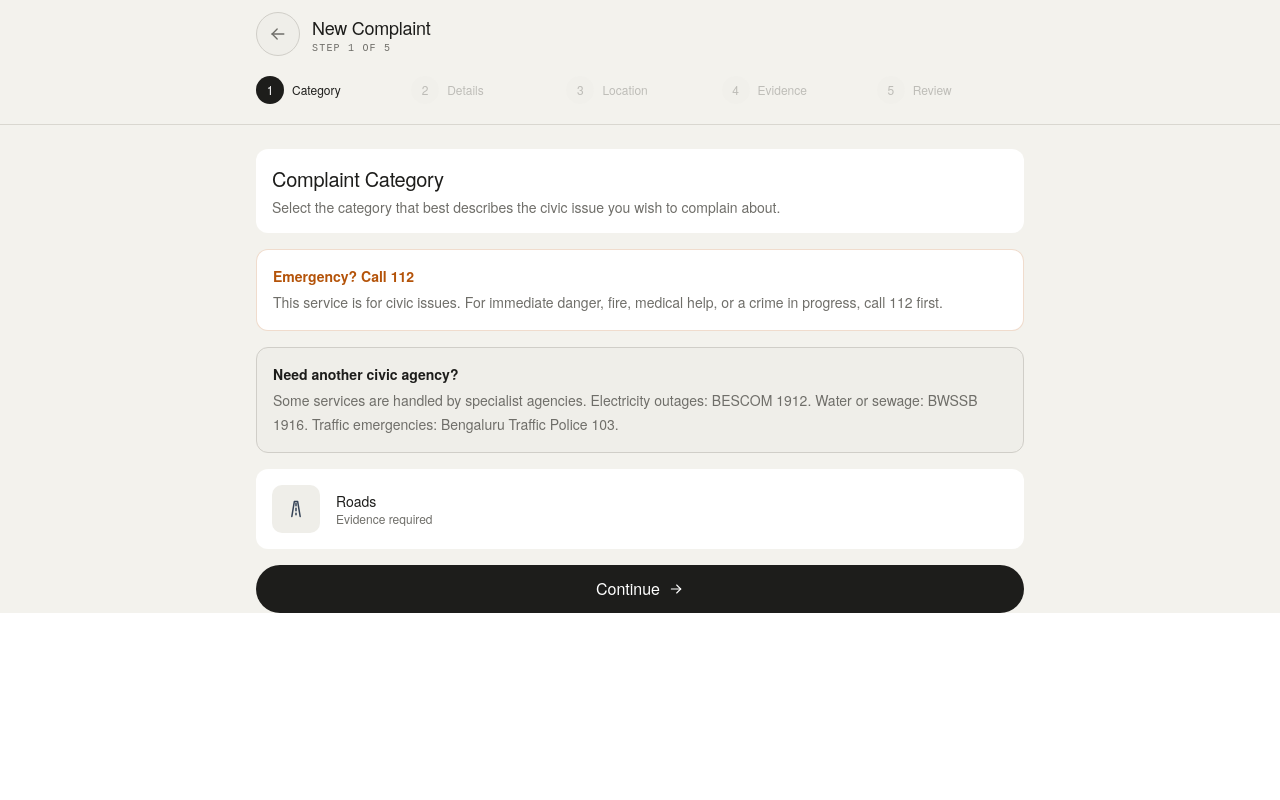
Test: SubmitPage › validates title and description length
Go to details
Click the radio button "Roads" at (352, 509), box [272,485,432,533]
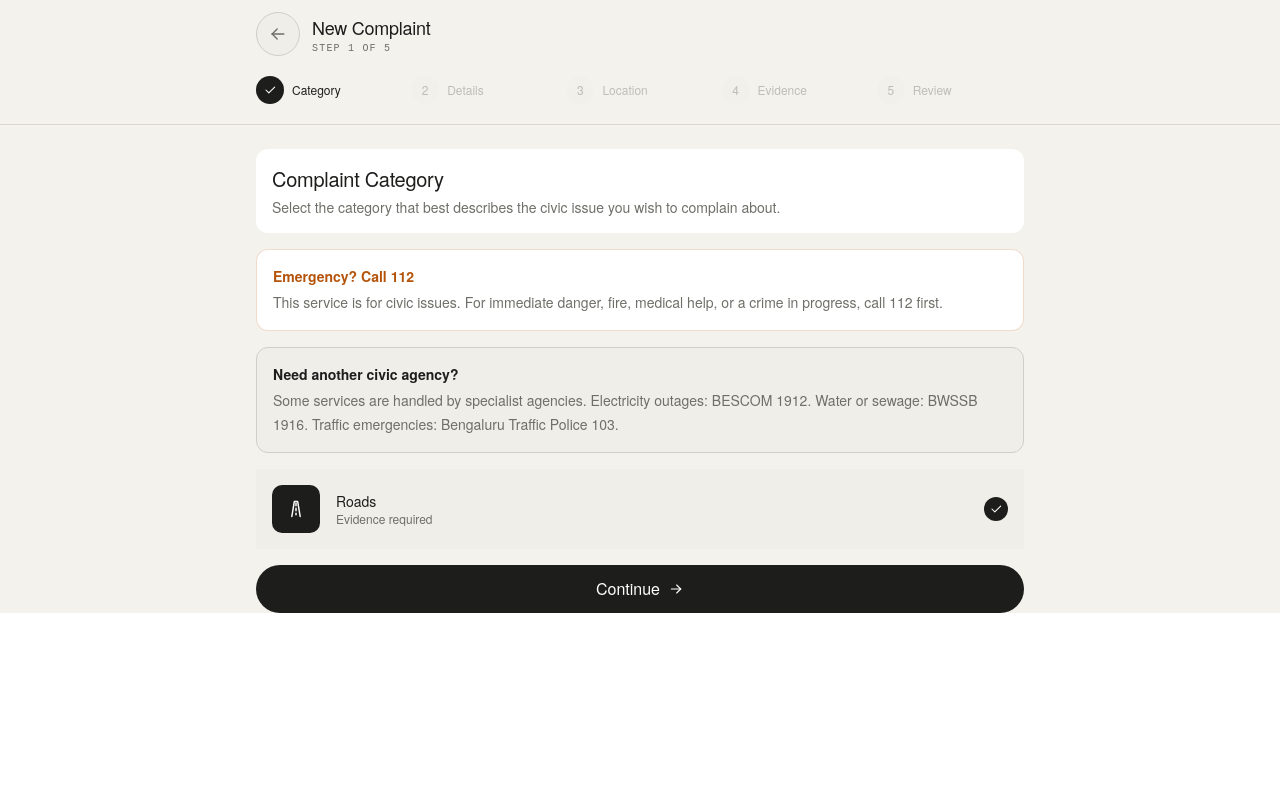
Click the button "Continue" at (640, 589), box [256,565,1024,613]
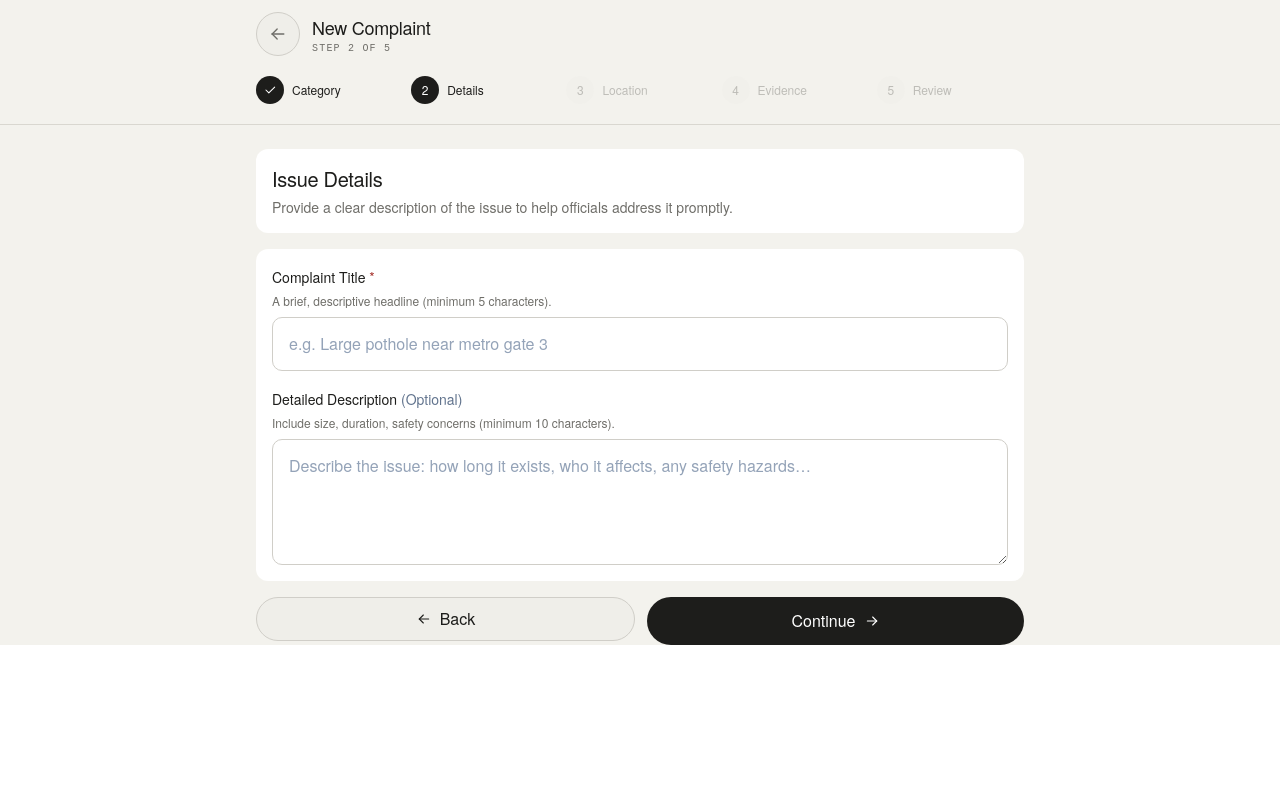
Now the heading "Issue Details" is shown, box [272,164,382,193]
Try to continue with short input
Type "Hi" into the field with placeholder "e.g. Large pothole near metro gate 3" at (640, 344), box [272,317,1008,371]
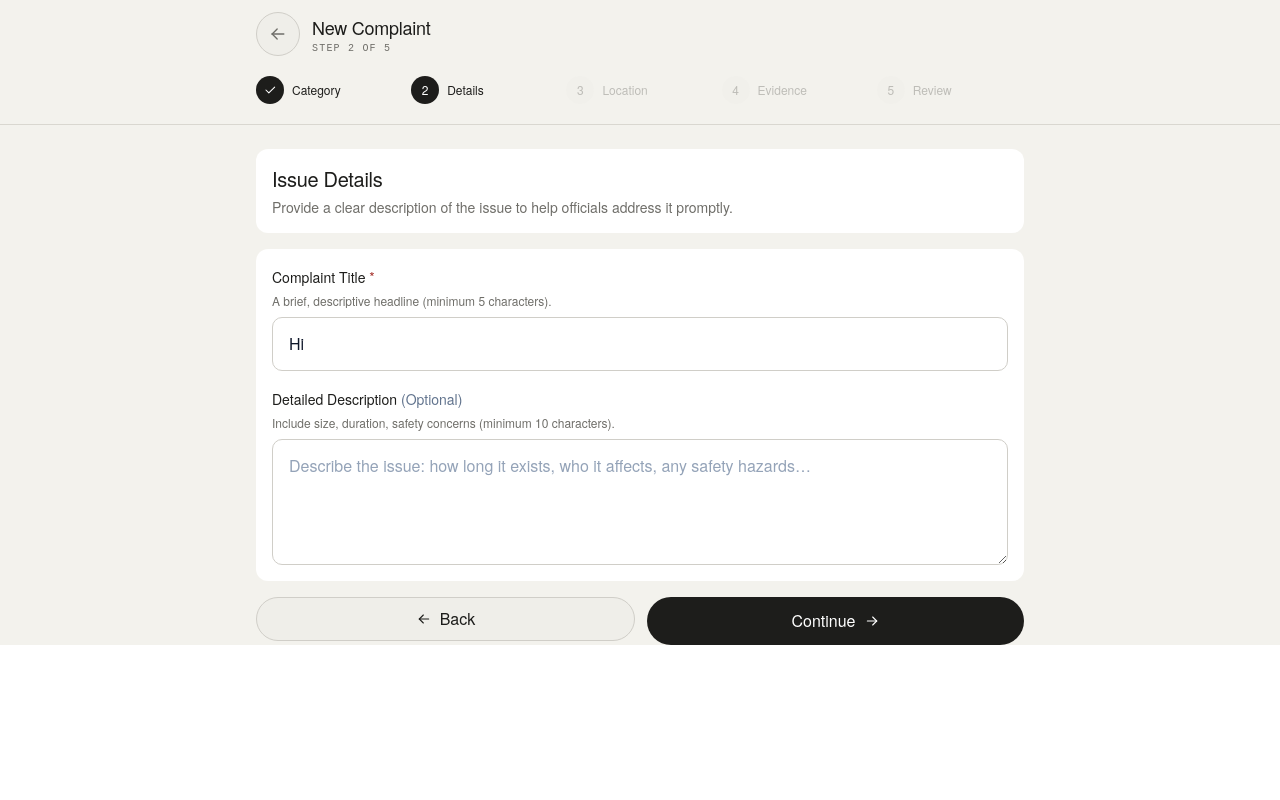
Replace the text in the text box with placeholder "Describe the issue" with "Short" at (640, 502), box [272,439,1008,565]
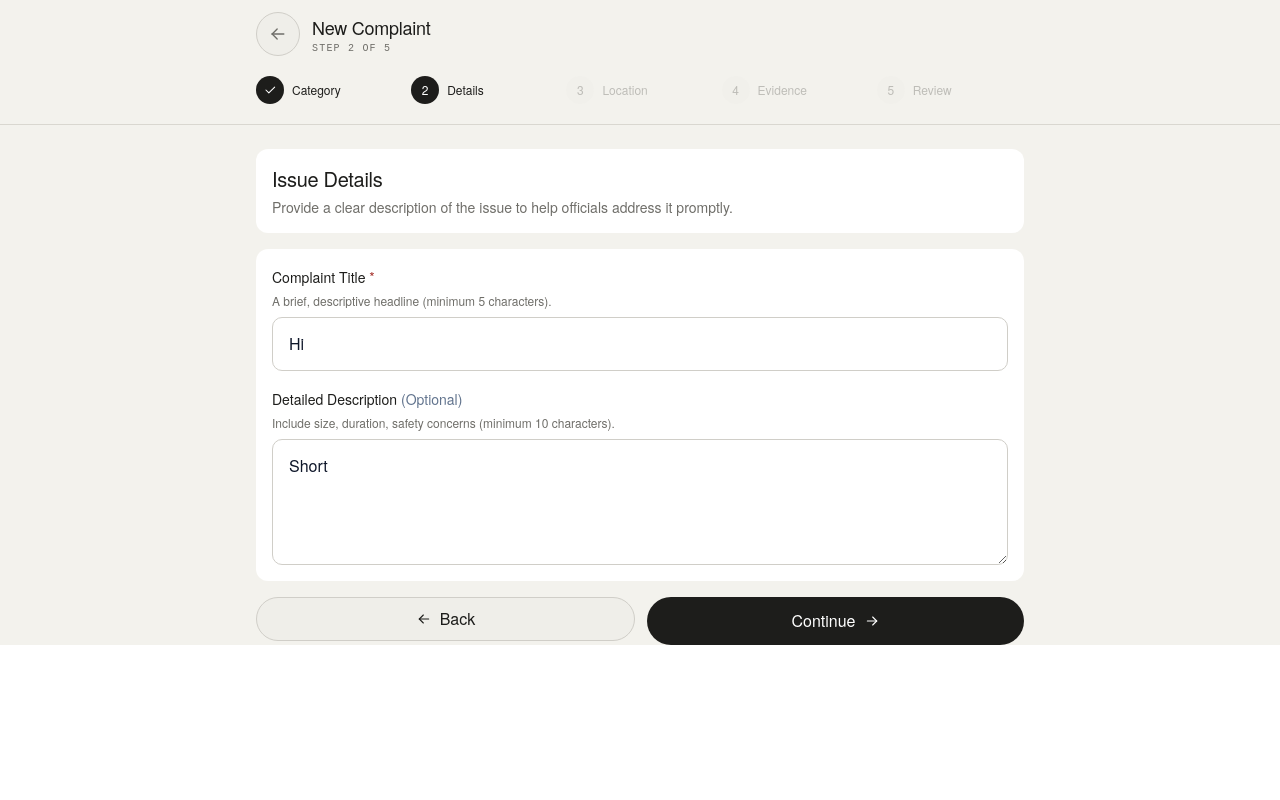
Click the button "Continue" at (836, 621), box [647,597,1024,645]
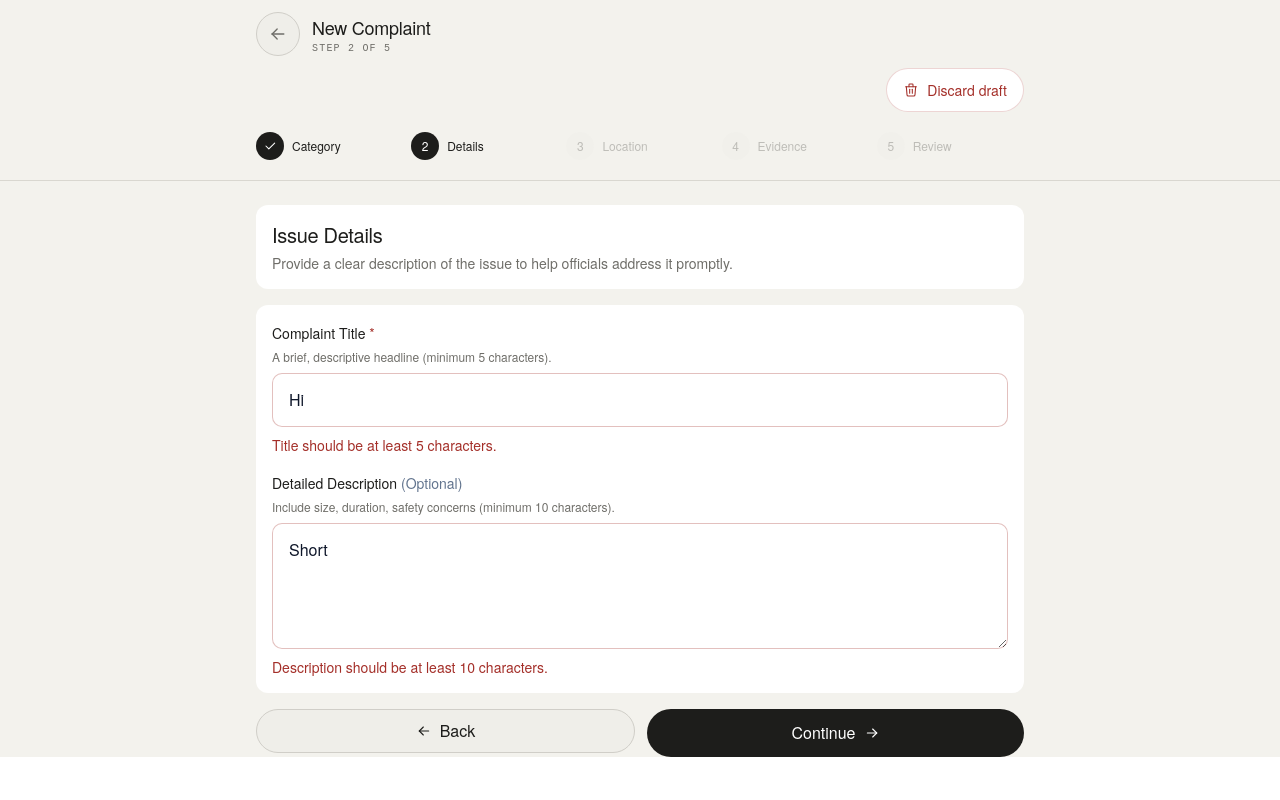
Now the text "Title should be at least 5 characters." is shown, box [272,435,497,455]
Now the text "Description should be at least 10 characters." is shown, box [272,657,548,677]
